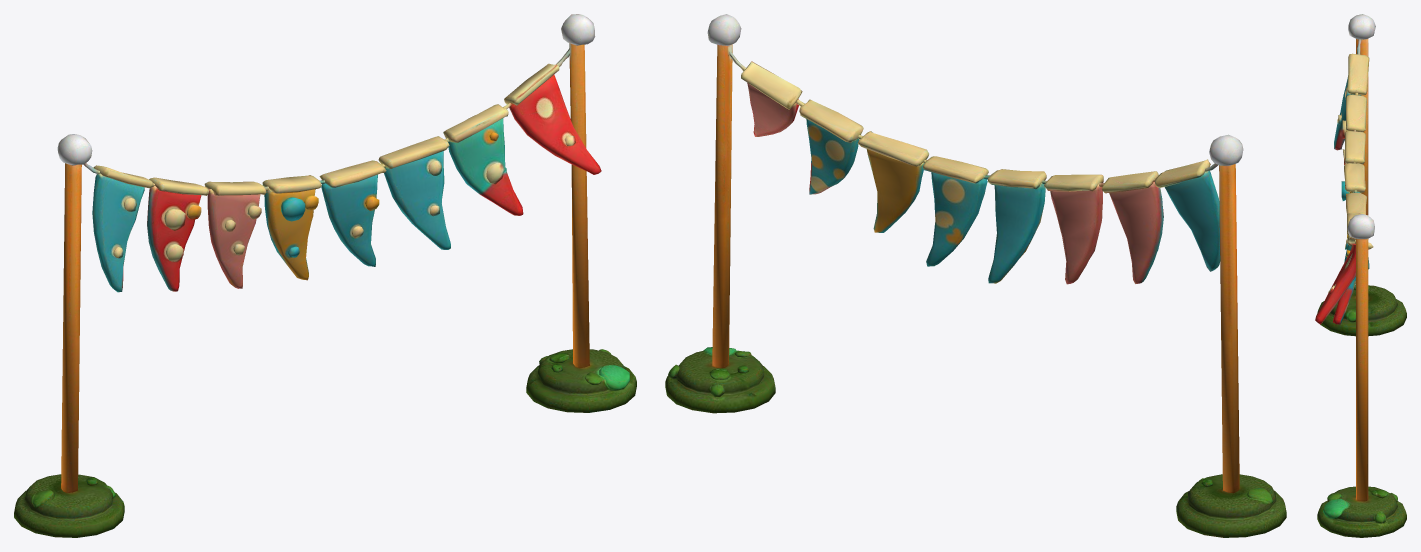
Rendered from prop_garland.glb.
The picture shows the model from 3 angles, left to right: view 1: azimuth 30°, elevation 25°; view 2: azimuth 150°, elevation 25°; view 3: azimuth 270°, elevation 25°; orthographic projection. The views are drawn at different scales.
Visible parts, largest first — view 1: tripo_node_71031cda-a3ee-4b13-99e7-48e596b8d799; view 2: tripo_node_71031cda-a3ee-4b13-99e7-48e596b8d799; view 3: tripo_node_71031cda-a3ee-4b13-99e7-48e596b8d799.
Part boxes in pixels (x1=…): tripo_node_71031cda-a3ee-4b13-99e7-48e596b8d799: x1=14, y1=14, x2=636, y2=537; tripo_node_71031cda-a3ee-4b13-99e7-48e596b8d799: x1=665, y1=14, x2=1286, y2=537; tripo_node_71031cda-a3ee-4b13-99e7-48e596b8d799: x1=1315, y1=14, x2=1406, y2=537.
Bounding box in the file's own units: 0.998 × 0.5918 × 0.1621.
1 material, 1 textured.
